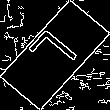L_SE: (24, 27, 86, 83)
